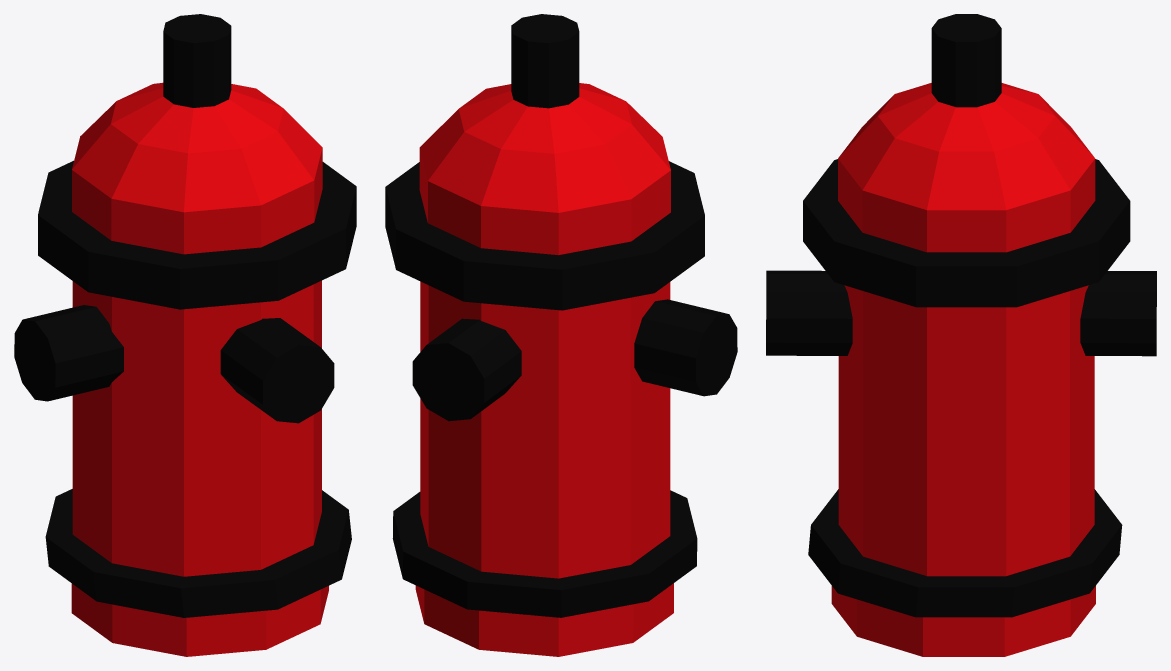
Rendered from Fire_hydrant.fbx.
3 renders of one model, left to right at view 1: azimuth 30°, elevation 25°; view 2: azimuth 150°, elevation 25°; view 3: azimuth 270°, elevation 25°, orthographic.
Visible parts, largest first — view 1: Hydrant; view 2: Hydrant; view 3: Hydrant.
Part boxes in pixels (<box>): Hydrant: <box>14,14,356,656</box>; Hydrant: <box>385,14,737,656</box>; Hydrant: <box>766,14,1156,656</box>.
Size of the model in its own units: 2.64 by 4.8 by 2.96.
